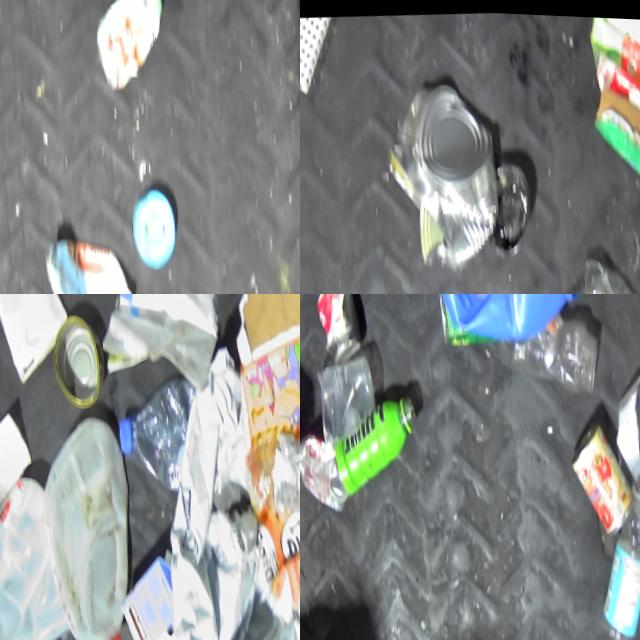can: (407, 65, 505, 270), (572, 416, 640, 538), (49, 311, 108, 412), (313, 294, 359, 366), (300, 428, 339, 512)
milk_jug: (39, 415, 137, 640), (0, 476, 77, 640), (94, 0, 169, 93), (44, 227, 139, 294)
non_white_jug: (428, 294, 596, 353)
plastic_bottle: (116, 376, 216, 489), (590, 473, 640, 640)
